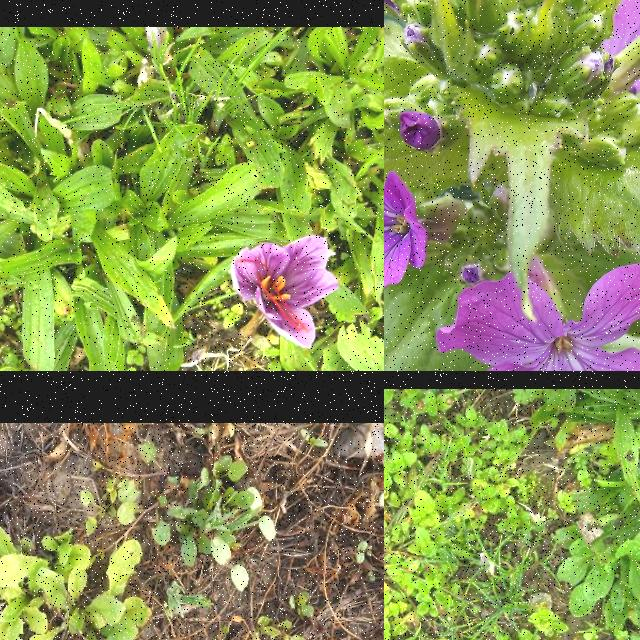flower: (232, 236, 341, 350)
